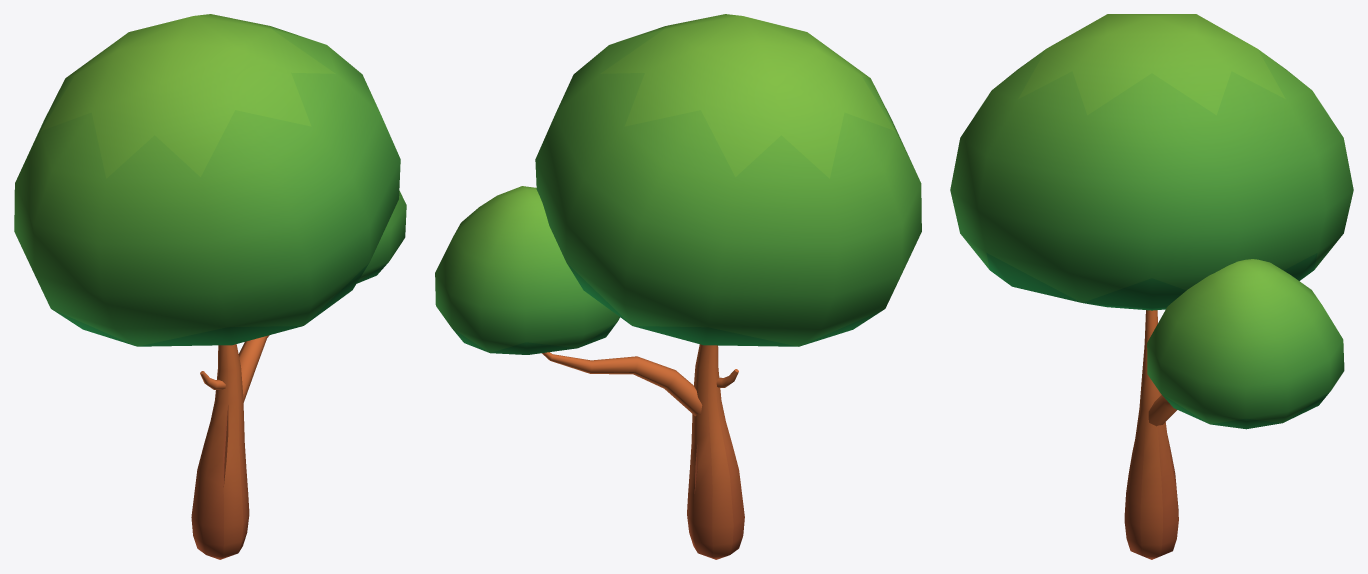
Rendered from Tree_B_1x1.glb.
3 views of the same model, side by side, from view 1: azimuth 30°, elevation 25°; view 2: azimuth 150°, elevation 25°; view 3: azimuth 270°, elevation 25° (orthographic).
Visible parts, largest first — view 1: Tree_B_1x1; view 2: Tree_B_1x1; view 3: Tree_B_1x1.
Boxes of the visible parts, left/top/right/bottom form: Tree_B_1x1: left=14, top=14, right=406, bottom=559; Tree_B_1x1: left=435, top=14, right=921, bottom=559; Tree_B_1x1: left=950, top=14, right=1353, bottom=559.
Bounding box in the file's own units: 4.01 × 4.93 × 3.45.
Materials: 1 (1 with a texture image).
